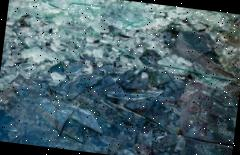glass: (0, 44, 240, 155)
